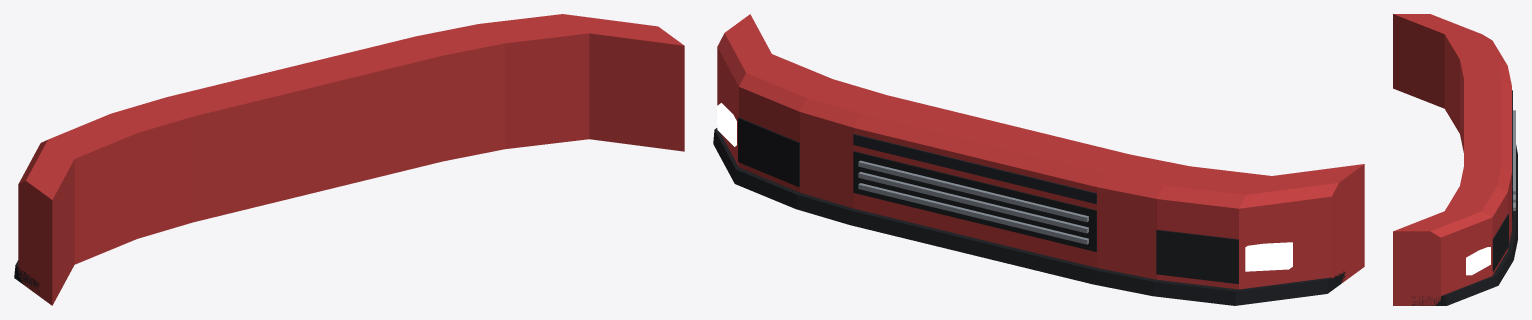
File: bumper_front_sport.glb
3 views of the same model, side by side, from view 1: azimuth 30°, elevation 25°; view 2: azimuth 150°, elevation 25°; view 3: azimuth 270°, elevation 25° (orthographic). The views are drawn at different scales.
Parts seen in each view (by area): view 1: Body; view 2: Body; view 3: Body.
Part boxes in pixels (x1,y1,x2,y2): Body: [14, 14, 684, 305]; Body: [713, 14, 1364, 305]; Body: [1393, 14, 1517, 305].
Size of the model in its own units: 1.72 by 0.275 by 0.4175.
